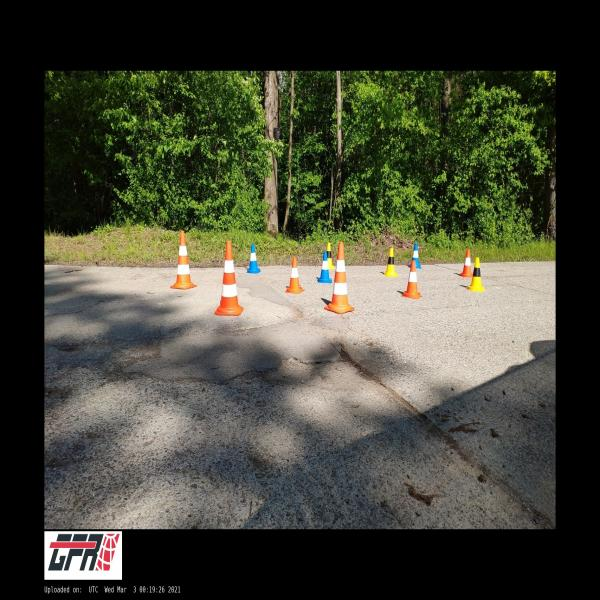blue_cone: (246, 244, 261, 274), (318, 251, 332, 283), (412, 243, 421, 269)
large_orange_cone: (214, 240, 244, 316), (324, 242, 354, 314), (170, 231, 196, 289)
orange_cone: (284, 256, 304, 294), (402, 261, 422, 299), (460, 249, 472, 277)
yellow_cone: (468, 257, 485, 291), (383, 248, 397, 277), (325, 242, 335, 270)
